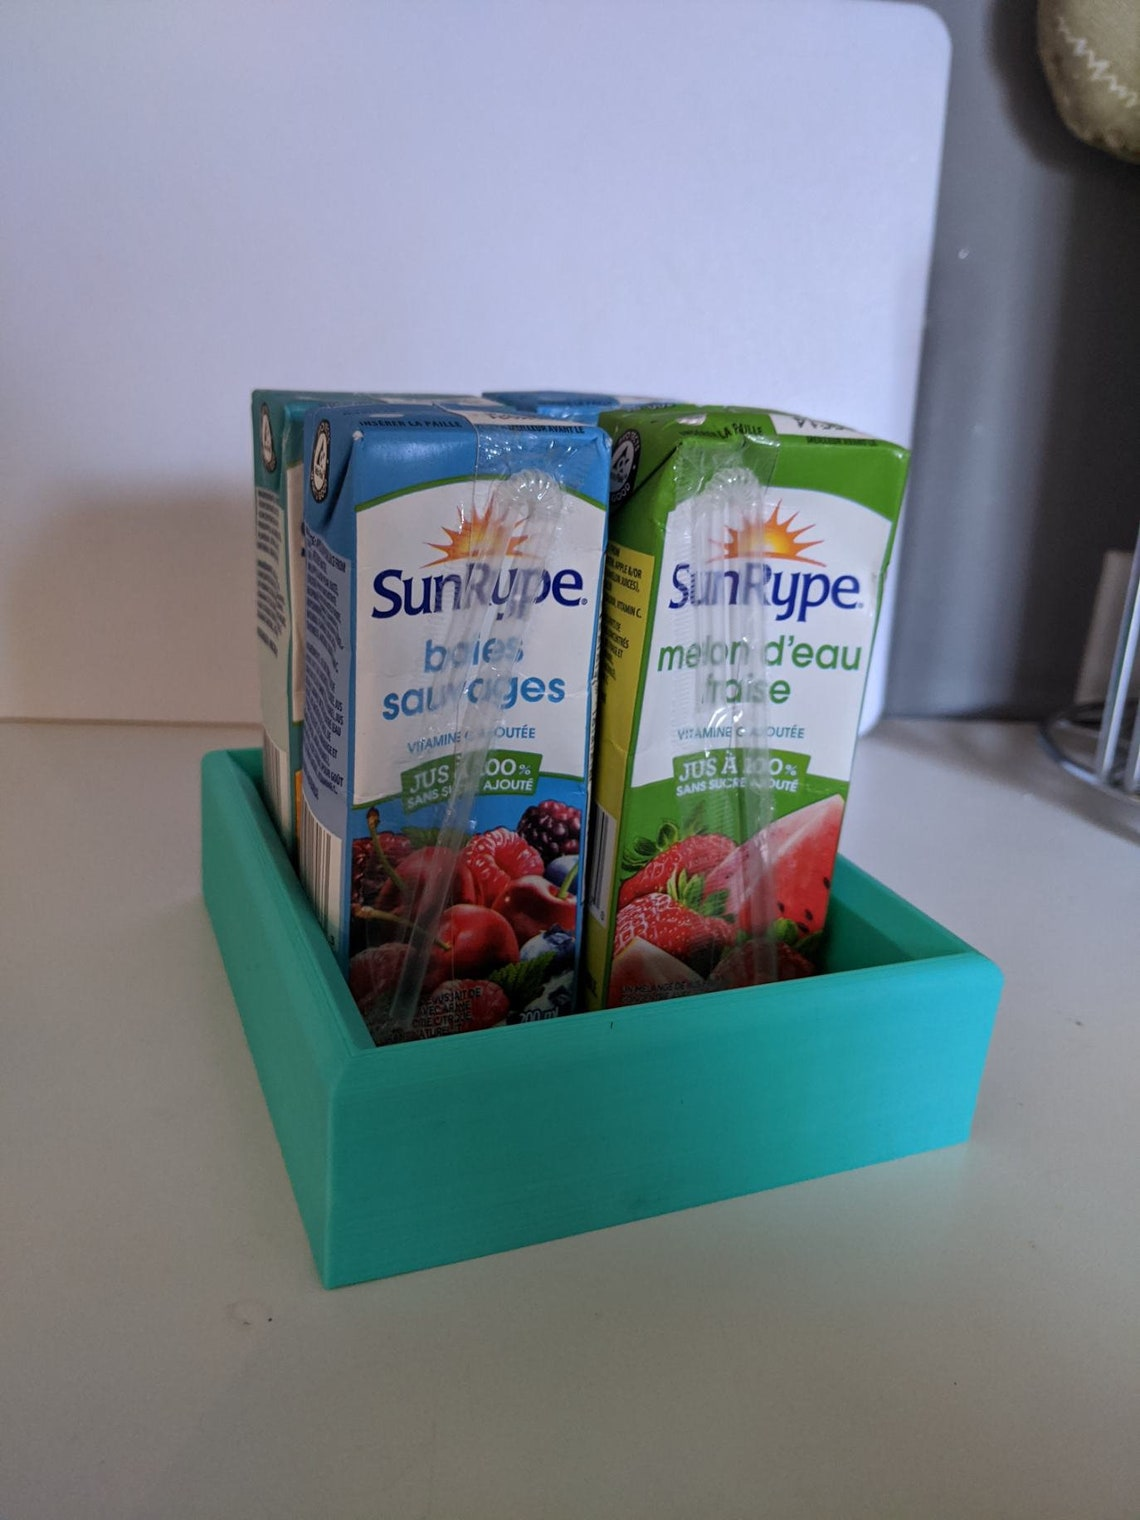Juice_Box: (589, 420, 910, 987), (297, 414, 589, 1025)
